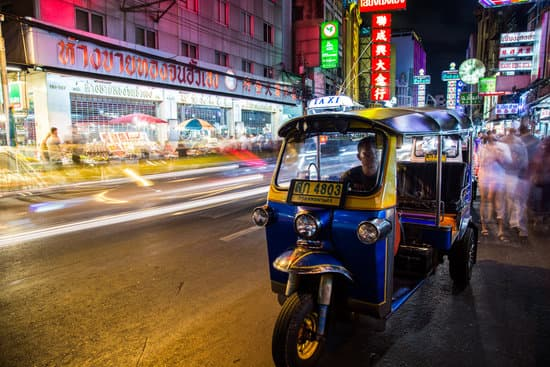threewheel: (251, 95, 478, 367)
